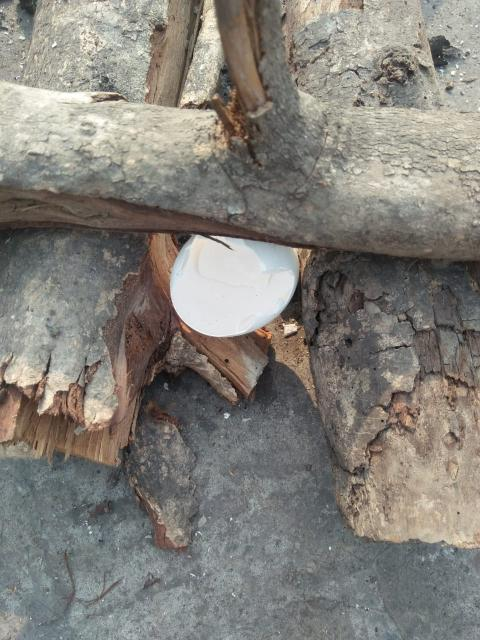Roto: (168, 233, 300, 338)
